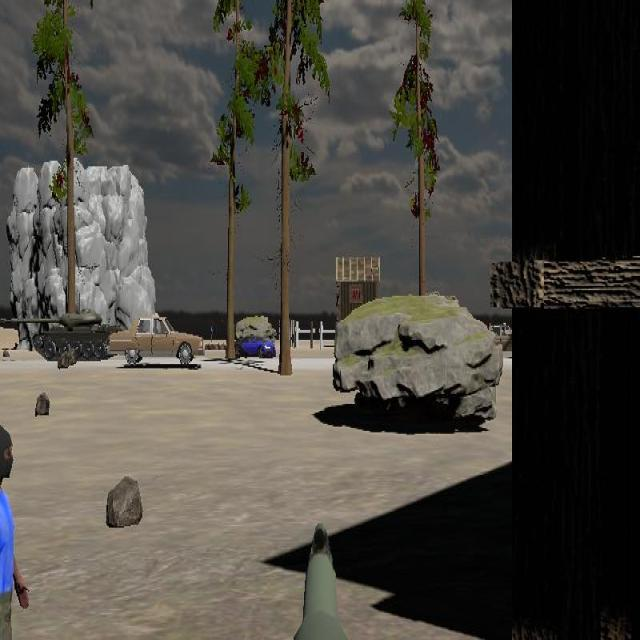House: (513, 89, 639, 610)
Human: (0, 413, 29, 640)
Tank: (1, 310, 115, 362)
car: (109, 315, 204, 366), (236, 334, 276, 360)
